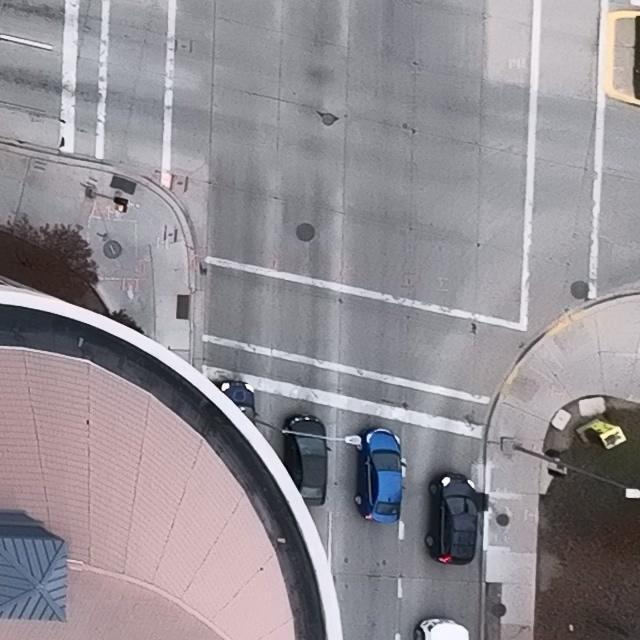car: (355, 427, 407, 524), (424, 475, 480, 565), (282, 413, 332, 506), (218, 380, 259, 425), (413, 618, 470, 640)
